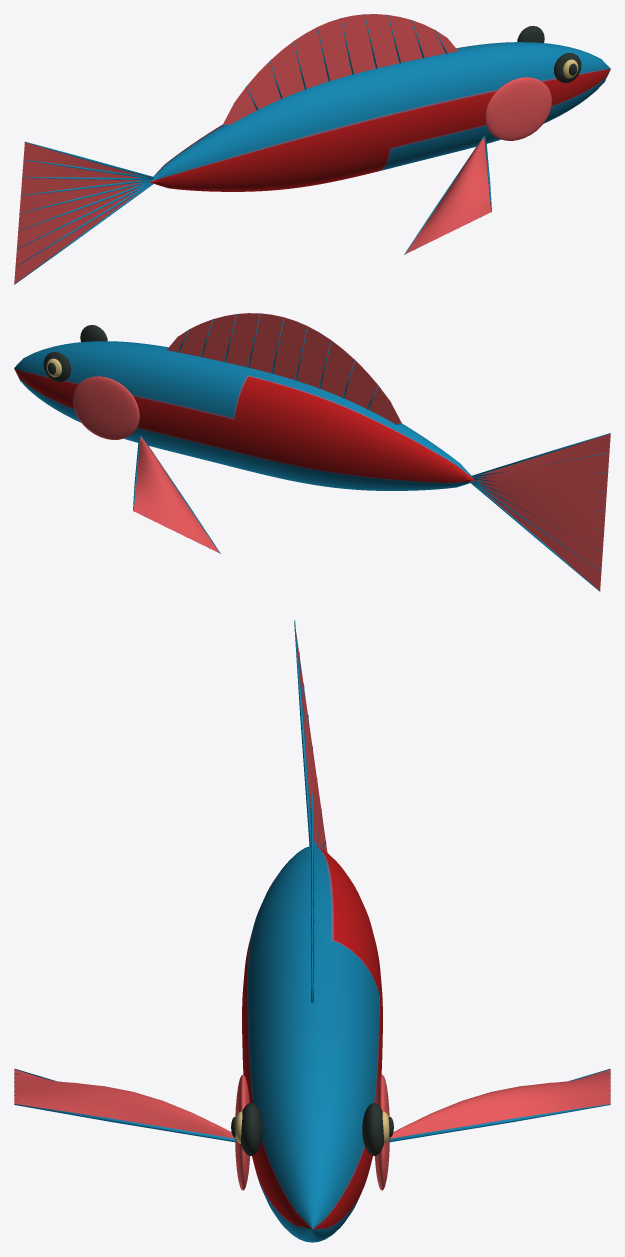
The model's file is fish-neon.glb.
3 renders of one model, top to bottom at view 1: azimuth 30°, elevation 25°; view 2: azimuth 150°, elevation 25°; view 3: azimuth 270°, elevation 25°, orthographic. The views are drawn at different scales.
Visible parts, largest first — view 1: FishMesh_0.002, FishMesh_1.002, FishMesh_2.002; view 2: FishMesh_0.002, FishMesh_1.002, FishMesh_2.002; view 3: FishMesh_0.002, FishMesh_1.002, FishMesh_2.002.
Boxes of the visible parts, x1,y1,x2,y2 form: FishMesh_0.002: [14, 14, 610, 284]; FishMesh_1.002: [14, 14, 551, 283]; FishMesh_2.002: [517, 26, 581, 82]; FishMesh_0.002: [14, 313, 610, 591]; FishMesh_1.002: [73, 313, 610, 590]; FishMesh_2.002: [43, 325, 107, 381]; FishMesh_0.002: [14, 620, 610, 1242]; FishMesh_1.002: [14, 632, 610, 1190]; FishMesh_2.002: [231, 1103, 393, 1155].
Size of the model in its own units: 1.15 by 0.3573 by 0.6009.
4 materials, 1 textured.
